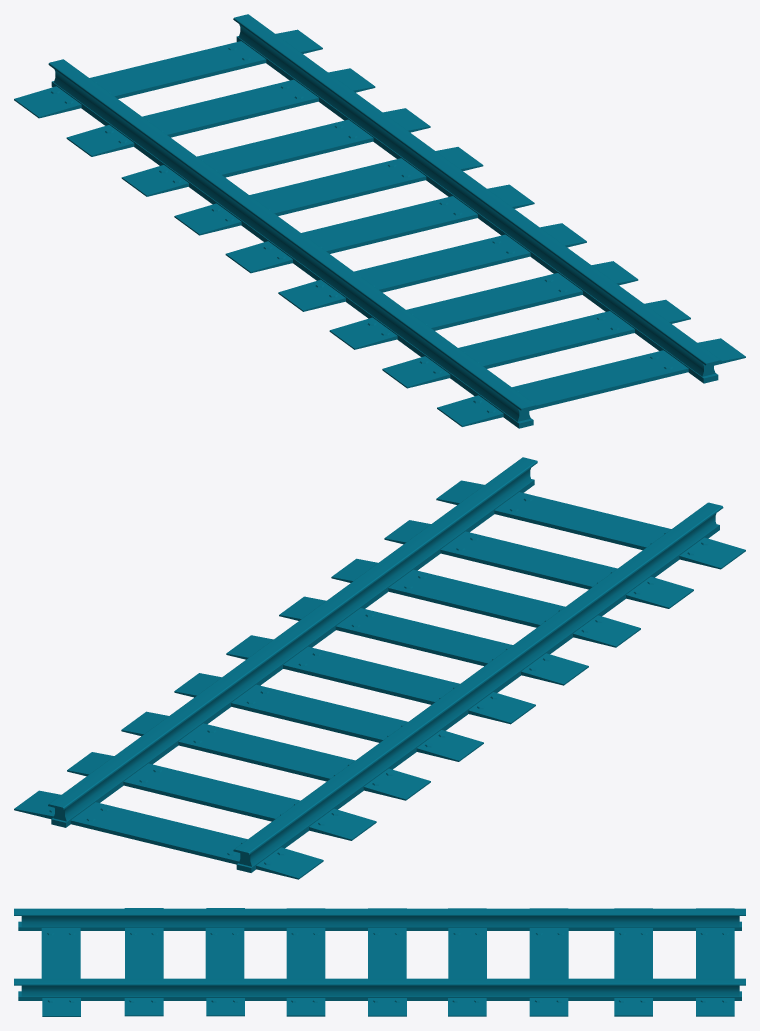
File: Recto-UV.fbx
3 views of the same model, one above another, from view 1: azimuth 30°, elevation 25°; view 2: azimuth 150°, elevation 25°; view 3: azimuth 270°, elevation 25° (orthographic). The views are drawn at different scales.
Parts seen in each view (by area): view 1: Recto1; view 2: Recto1; view 3: Recto1.
Boxes of the visible parts, x1,y1,x2,y2 form: Recto1: [14, 14, 745, 428]; Recto1: [14, 457, 745, 879]; Recto1: [14, 908, 745, 1016].
Bounding box in the file's own units: 3.9 × 0.2883 × 11.18.
